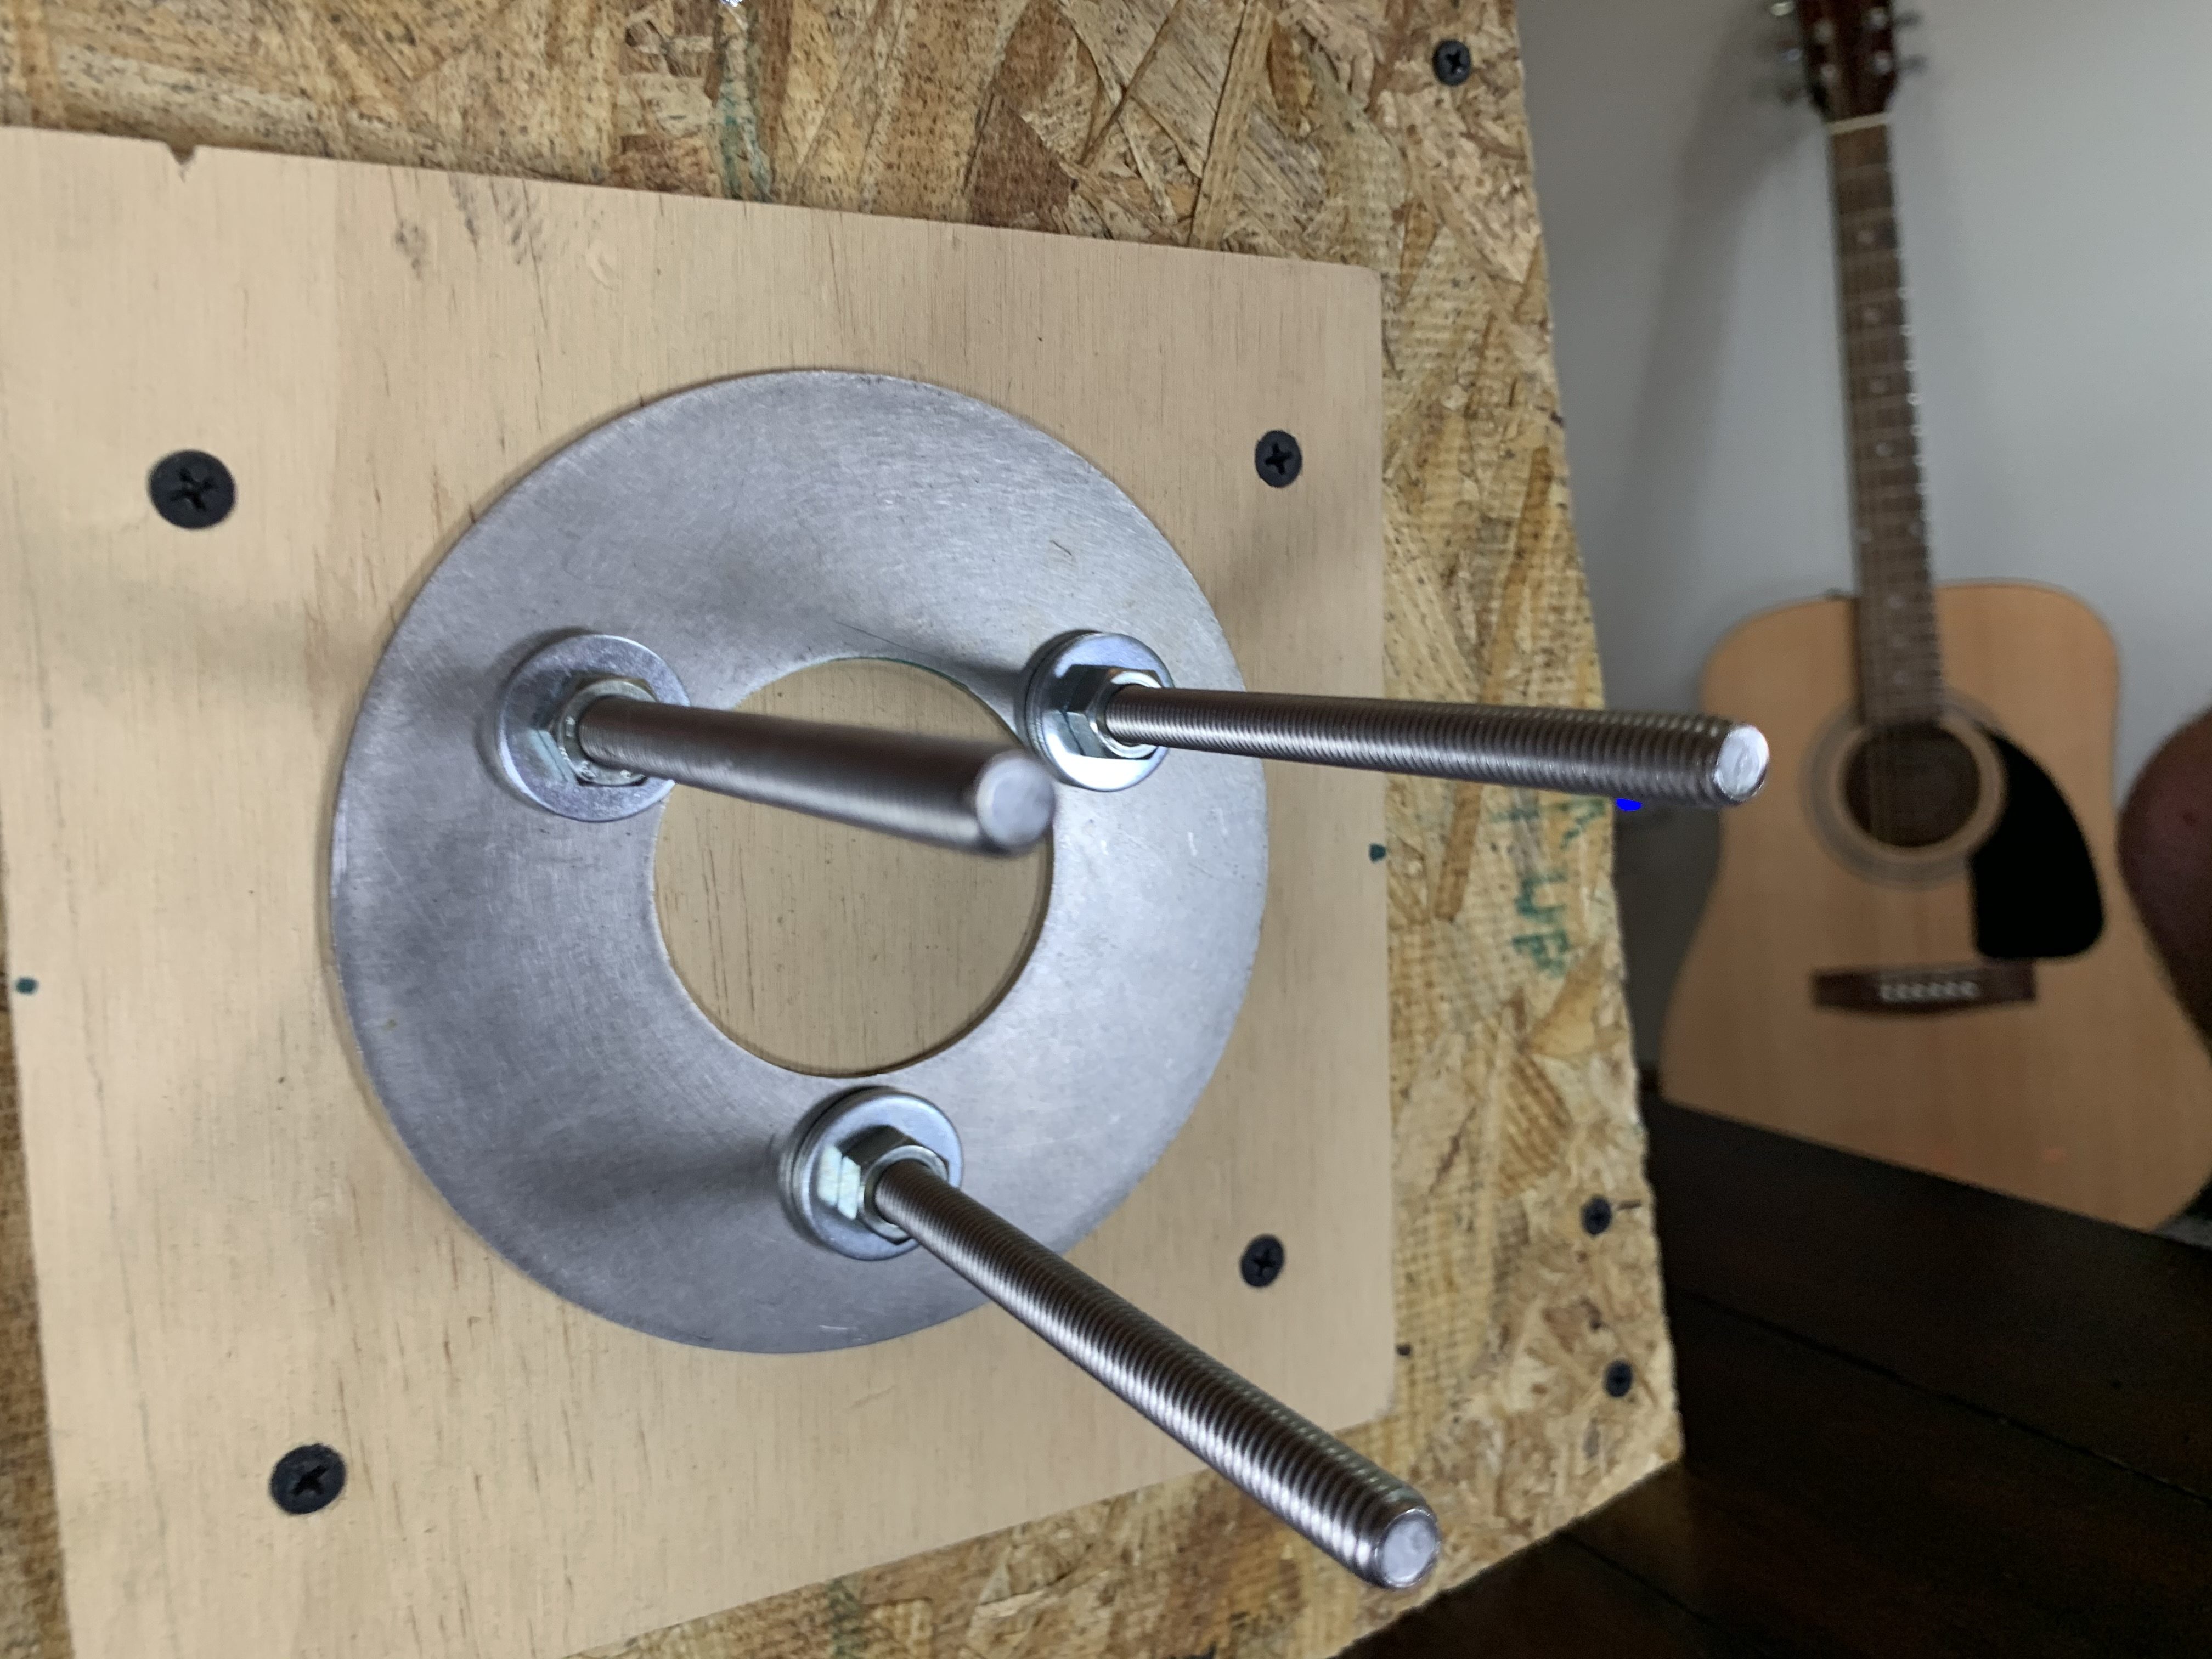bolt: (489, 629, 695, 830), (787, 1089, 967, 1263), (1017, 624, 1174, 798)
